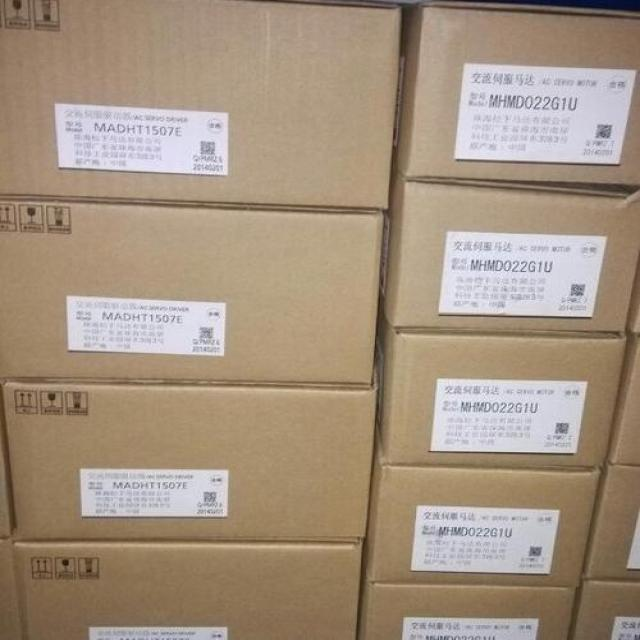box: (0, 0, 402, 216), (0, 198, 390, 384), (0, 379, 375, 542), (392, 1, 639, 193), (376, 293, 634, 466), (382, 166, 638, 333), (13, 540, 369, 637), (363, 456, 602, 587), (359, 583, 580, 637), (584, 467, 639, 585), (607, 332, 639, 462), (569, 582, 639, 638), (0, 377, 15, 537), (622, 193, 639, 333), (3, 537, 20, 639)
